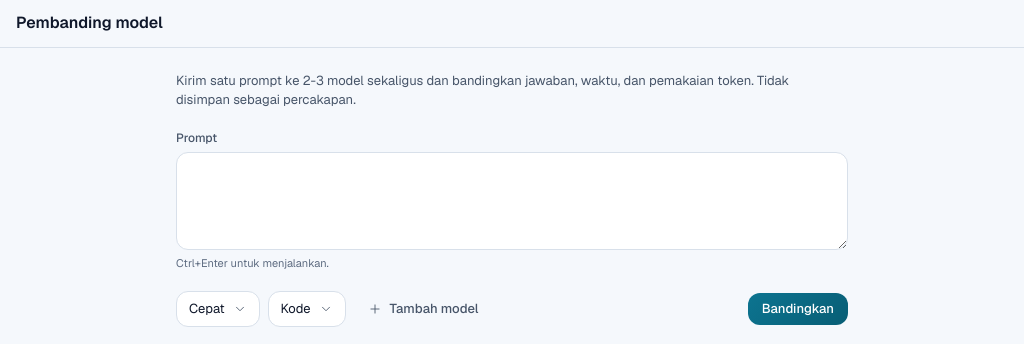
Test case: CompareScreen › Ctrl+Enter menjalankan; model ketiga bisa ditambah dan dihapus; maksimal tiga
The width and height of the screenshot is (1024, 344).
Type "halo" into the text box labelled "Prompt" at (512, 201), box x1=176 y1=152 x2=848 y2=250
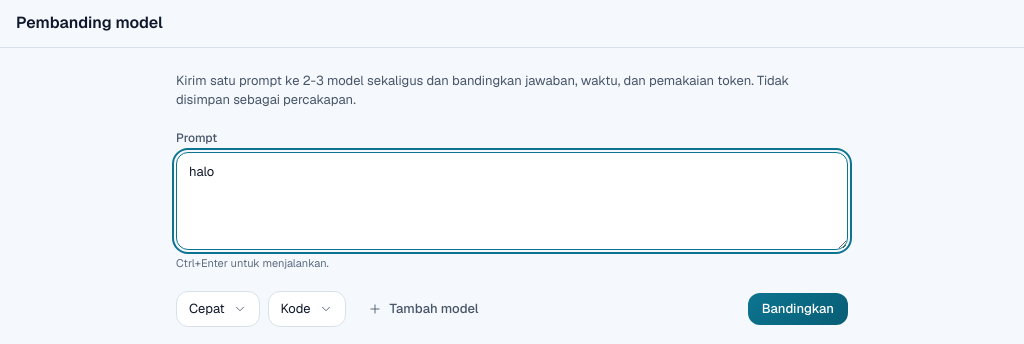
Click the button "Tambah model" at (423, 309), box x1=354 y1=293 x2=492 y2=325
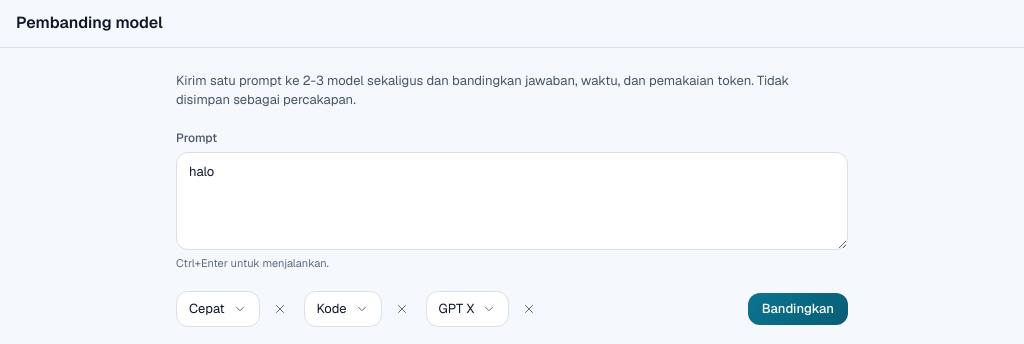
Expected: the button "Tambah model" is gone
Note: Tombol Tambah hilang saat penuh (fokus lepas): kembali ke kolom prompt sebelum Ctrl+Enter.
Click the text box labelled "Prompt" at (512, 201), box x1=176 y1=152 x2=848 y2=250
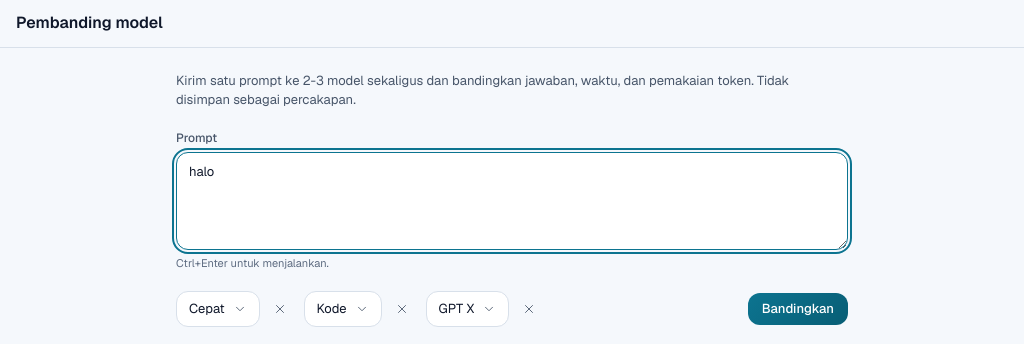
Type keys "{Control>}{Enter}{/Control}"
Click the button named "Hapus model 3" at (529, 309), box x1=513 y1=293 x2=545 y2=325
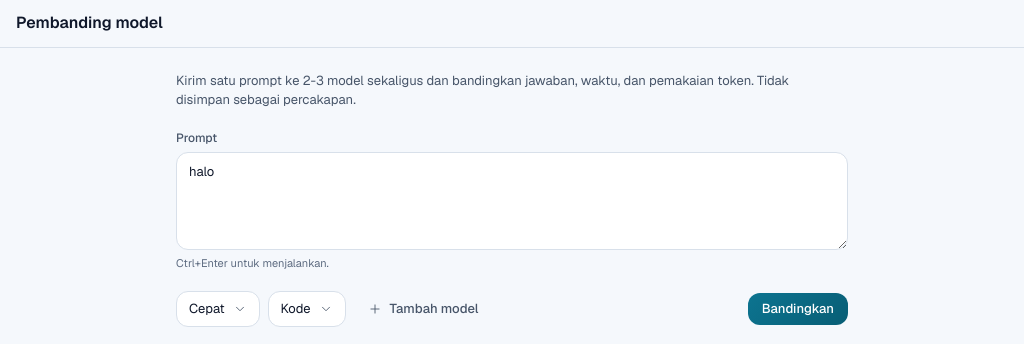
Expected: the button "Tambah model" is shown, x1=354 y1=293 x2=492 y2=325
